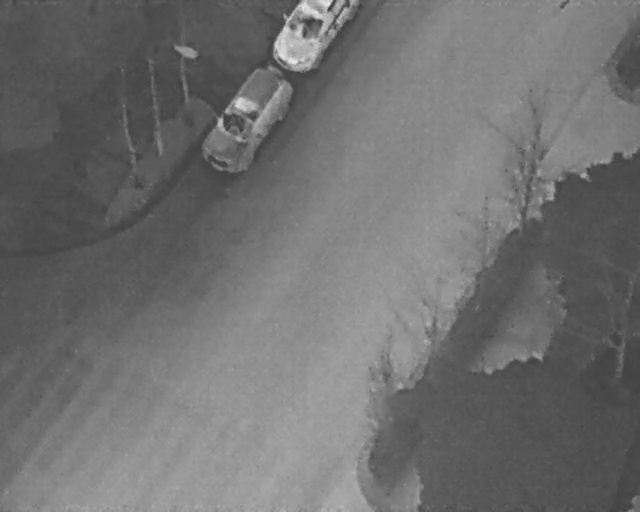Car: (193, 61, 301, 184)
Person: (270, 1, 357, 75)
